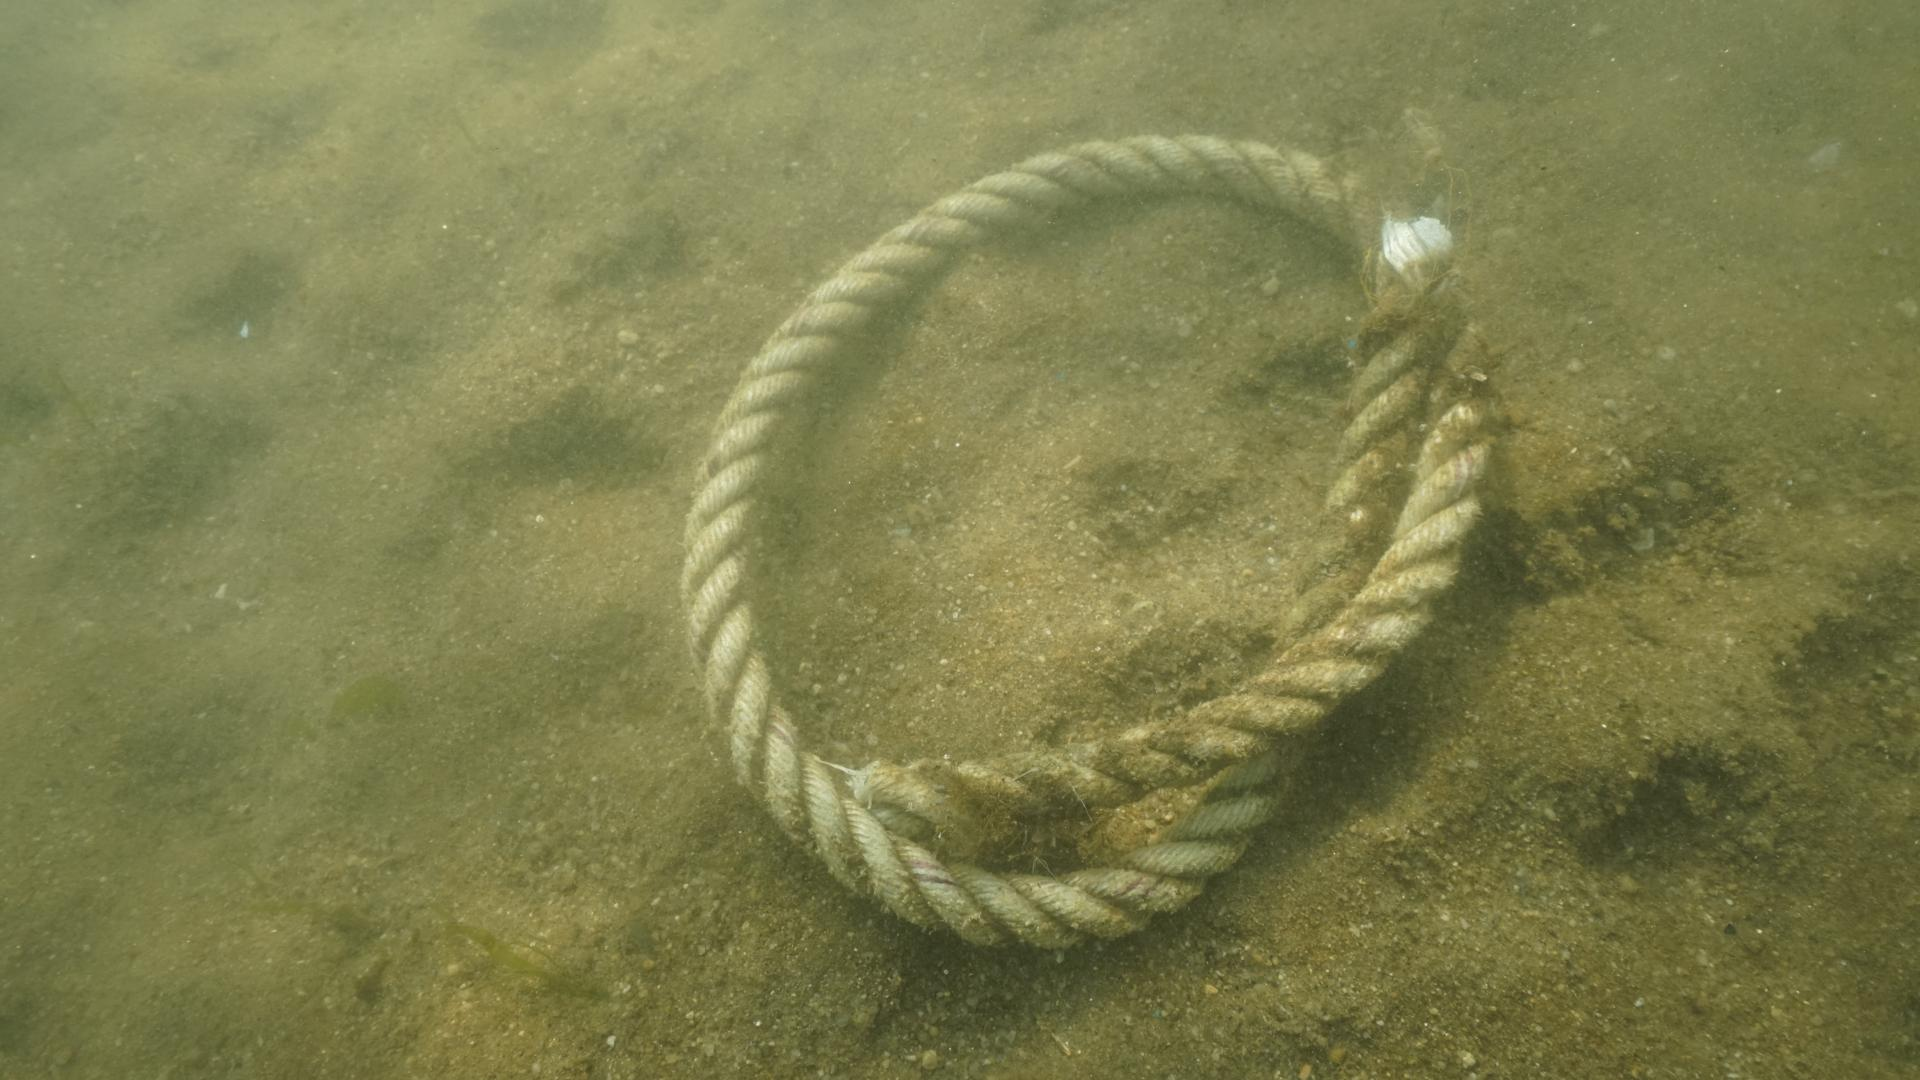bundle of ropes: (676, 128, 1502, 955)
